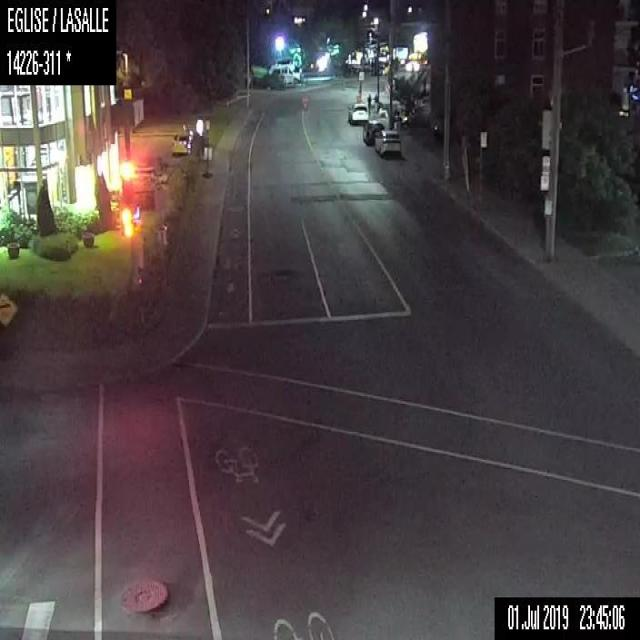pedestrian: (366, 92, 372, 113)
vehicle: (373, 128, 404, 158), (361, 118, 385, 144), (170, 123, 190, 154), (267, 62, 297, 82), (347, 101, 368, 125), (405, 51, 420, 70)
